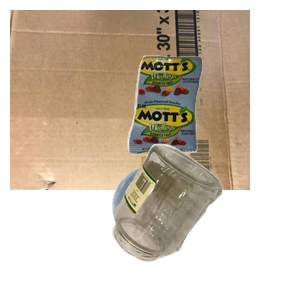cardboard: (10, 10, 250, 190)
glass: (110, 141, 300, 300)
plastic: (110, 164, 300, 300)
trash: (125, 53, 300, 201)
